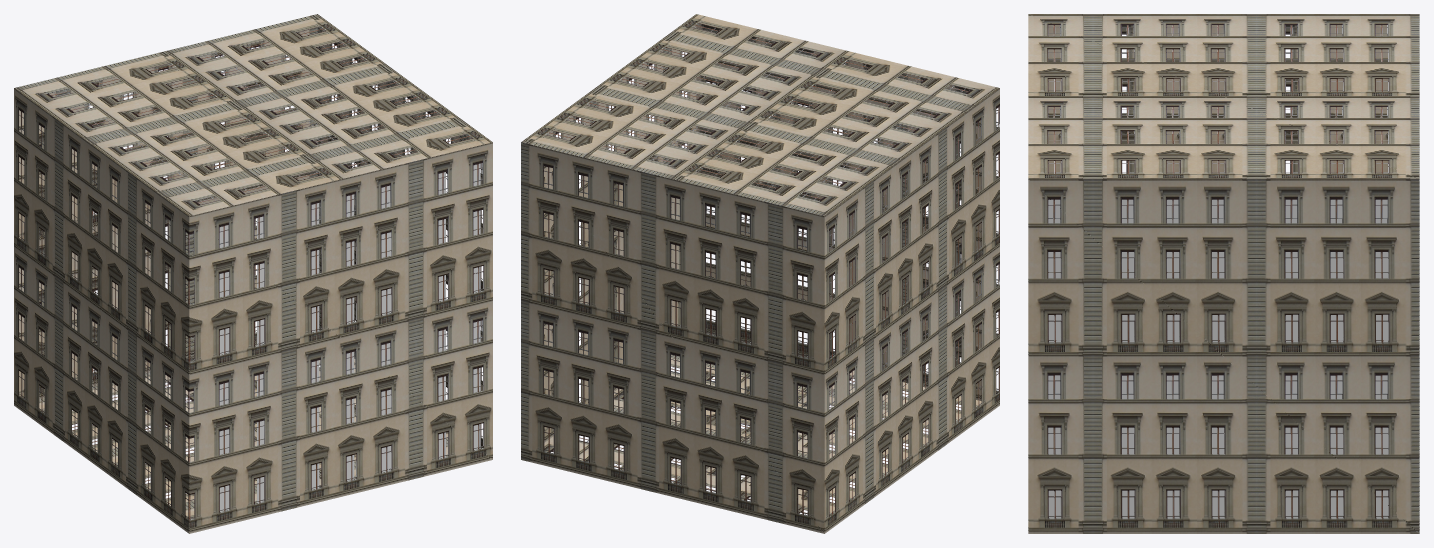
Rendered from shichashinei5.glb.
3 renders of one model, left to right at view 1: azimuth 30°, elevation 25°; view 2: azimuth 150°, elevation 25°; view 3: azimuth 270°, elevation 25°, orthographic. The views are drawn at different scales.
Parts seen in each view (by area): view 1: 立方体, shinei3d; view 2: 立方体; view 3: 立方体, shinei3d.
Part boxes in pixels (x1=…): 立方体: x1=14, y1=14, x2=492, y2=533; shinei3d: x1=219, y1=163, x2=480, y2=512; 立方体: x1=521, y1=14, x2=999, y2=533; 立方体: x1=1028, y1=14, x2=1419, y2=533; shinei3d: x1=1048, y1=199, x2=1388, y2=517.
Bounding box in the file's own units: 14.52 × 14.52 × 14.52.
1 material, 1 textured.
